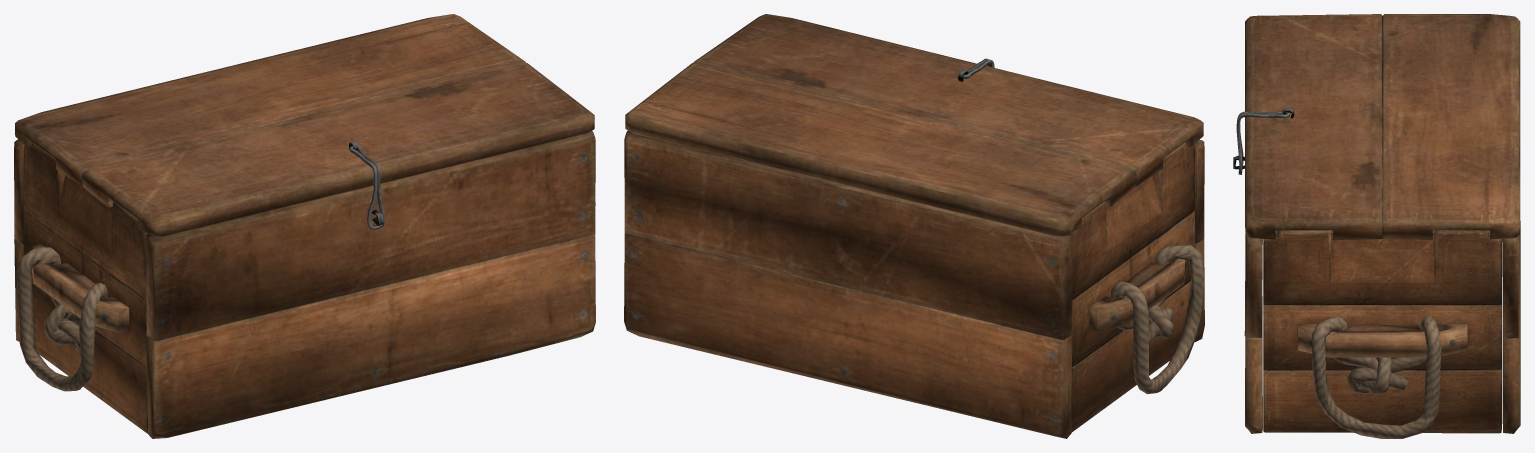
The model's file is wooden_crate_01.glb.
3 renders of one model, left to right at view 1: azimuth 30°, elevation 25°; view 2: azimuth 150°, elevation 25°; view 3: azimuth 270°, elevation 25°, orthographic. The views are drawn at different scales.
Visible parts, largest first — view 1: wooden_crate_01, wooden_crate_01_lid, wooden_crate_01_latch; view 2: wooden_crate_01, wooden_crate_01_lid; view 3: wooden_crate_01_lid, wooden_crate_01, wooden_crate_01_latch.
Boxes of the visible parts, bbox=[...] form: wooden_crate_01: bbox=[14, 131, 595, 438]; wooden_crate_01_lid: bbox=[15, 14, 594, 237]; wooden_crate_01_latch: bbox=[349, 145, 384, 229]; wooden_crate_01: bbox=[624, 131, 1204, 438]; wooden_crate_01_lid: bbox=[625, 14, 1203, 236]; wooden_crate_01_lid: bbox=[1245, 14, 1520, 239]; wooden_crate_01: bbox=[1233, 155, 1520, 438]; wooden_crate_01_latch: bbox=[1236, 111, 1289, 174].
Size of the model in its own units: 0.8245 by 0.3495 by 0.407.
1 material, 1 textured.
